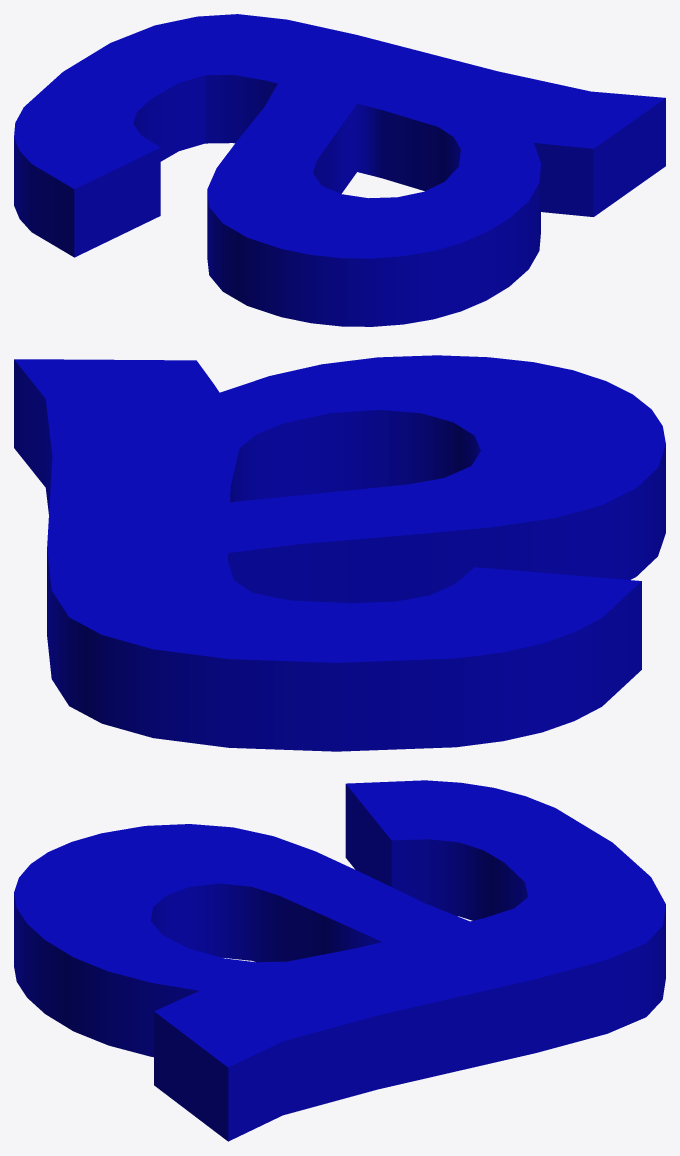
The model's file is original-6.obj.
3 renders of one model, top to bottom at view 1: azimuth 30°, elevation 25°; view 2: azimuth 150°, elevation 25°; view 3: azimuth 270°, elevation 25°, orthographic. The views are drawn at different scales.
Parts seen in each view (by area): view 1: mesh9/mesh9-geometry#mesh9-geometry; view 2: mesh9/mesh9-geometry#mesh9-geometry; view 3: mesh9/mesh9-geometry#mesh9-geometry.
Part boxes in pixels (box(x1,y1,x2,y2)): mesh9/mesh9-geometry#mesh9-geometry: box(14, 14, 665, 326); mesh9/mesh9-geometry#mesh9-geometry: box(14, 355, 665, 751); mesh9/mesh9-geometry#mesh9-geometry: box(14, 780, 665, 1141).
Size of the model in its own units: 0.108 by 0.013 by 0.1036.
